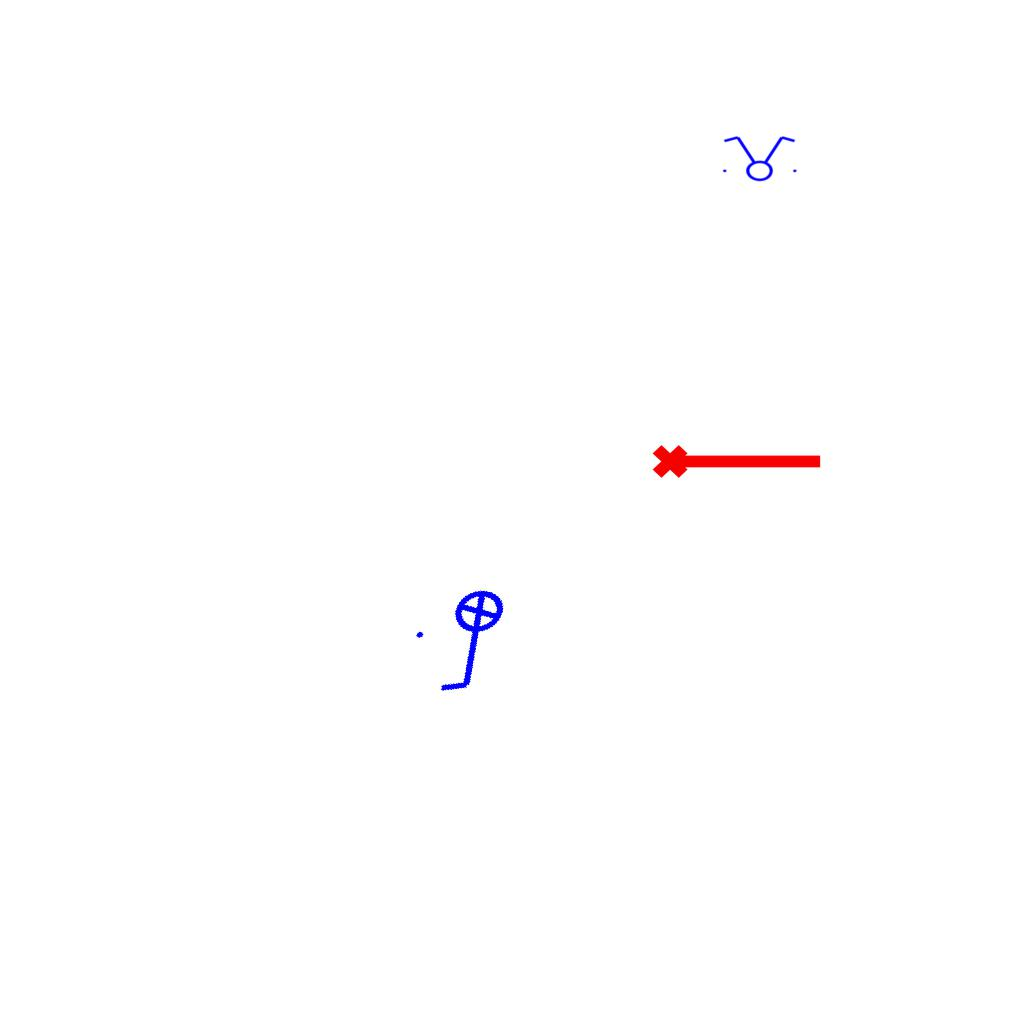ASR_Ansaugoeffnung: (650, 436, 826, 482)
Ausschalter_beleuchtet: (403, 576, 543, 708)
Serienschalter: (717, 134, 801, 182)
